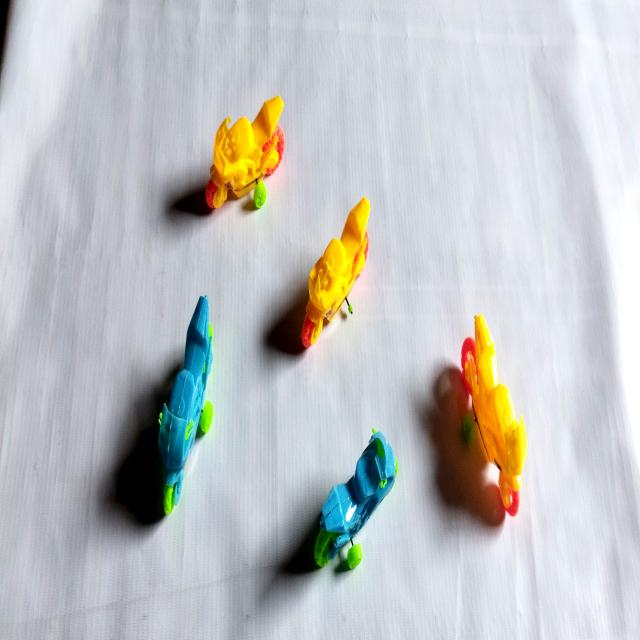bikes: (461, 315, 526, 516), (159, 297, 213, 513), (314, 432, 398, 569), (301, 197, 370, 348), (206, 96, 285, 209)
